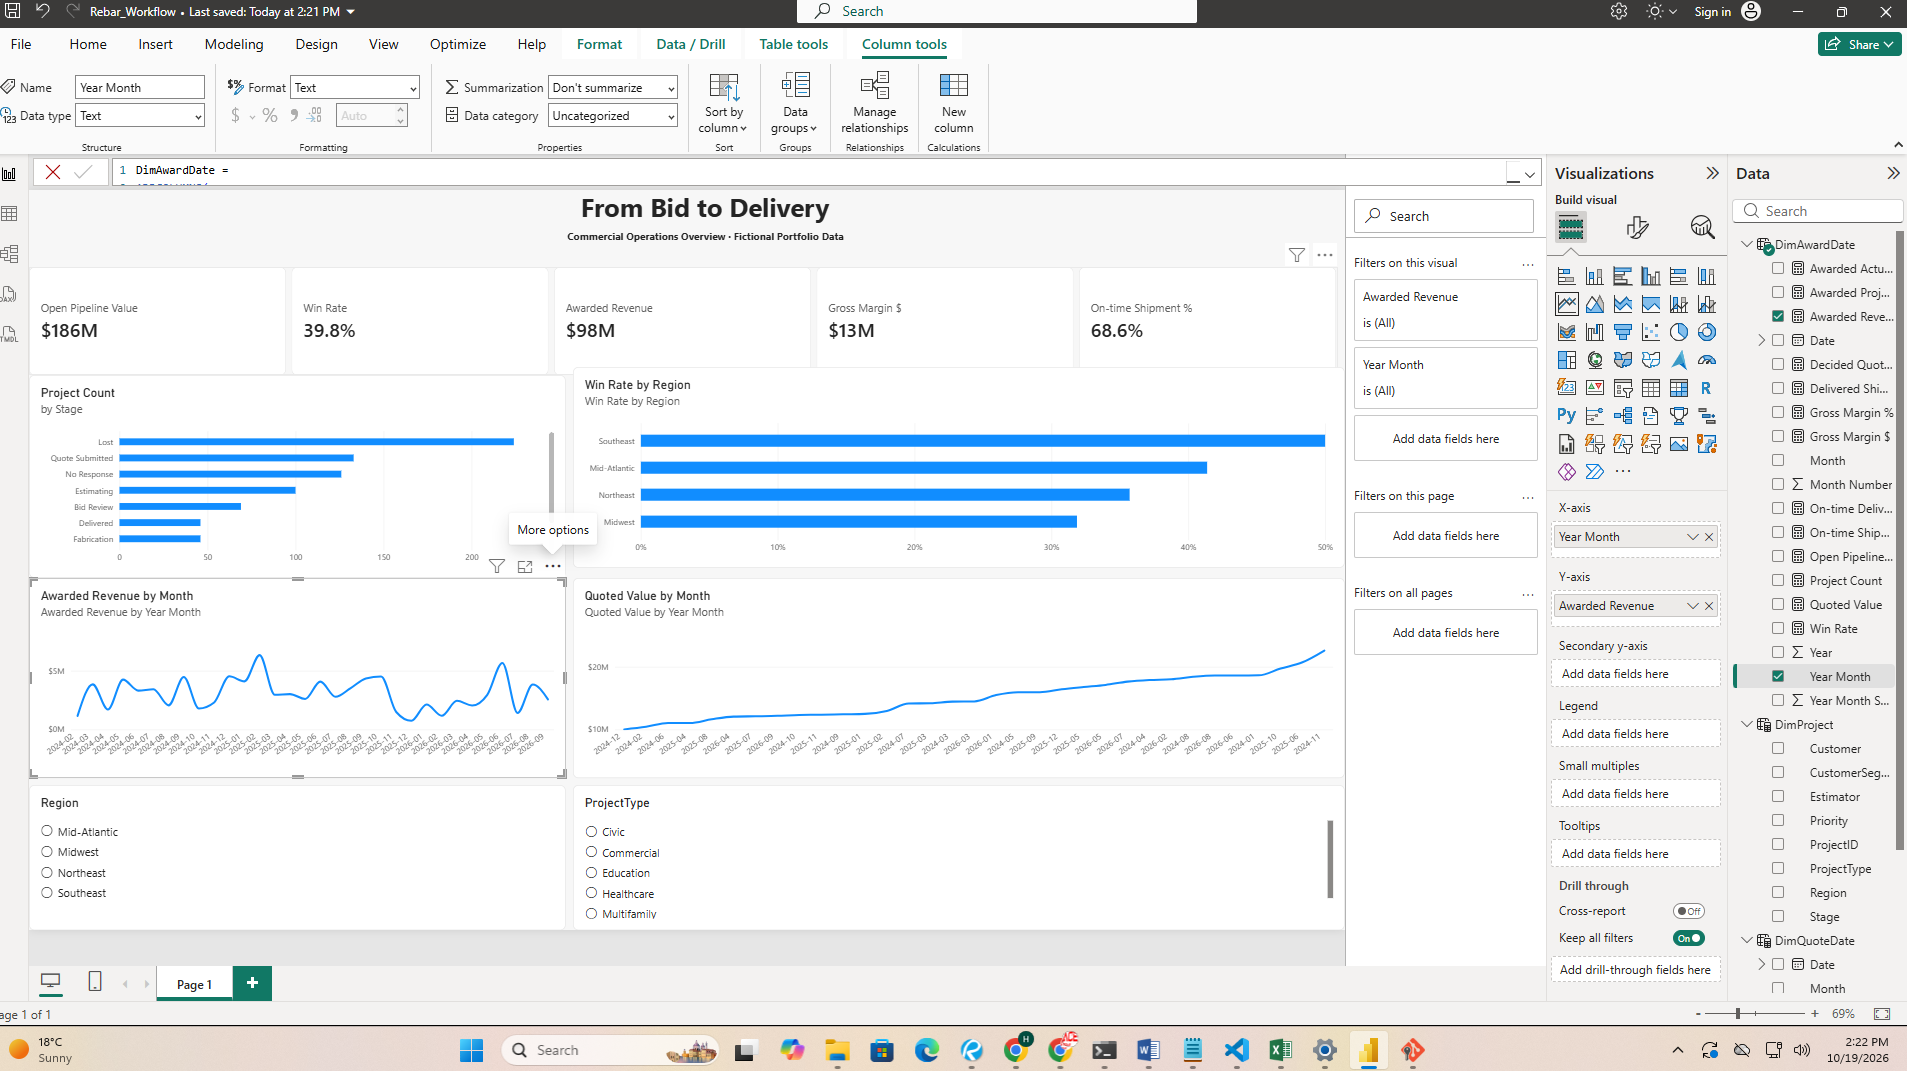

Layout of this report page (visuals, bound fields, positions):
{"tool":"powerbi","page":{"name":"Page 1","canvas":[1920,1080],"ordinal":0},"visuals":[{"type":"cardVisual","fields":{"Data":["DimAwardDate.Open Pipeline Value","DimAwardDate.Win Rate","DimAwardDate.Awarded Revenue","DimAwardDate.Gross Margin $","DimAwardDate.On-time Shipment %"]},"box":[0,111.7,1910,158.3],"z":0},{"type":"clusteredBarChart","fields":{"Category":["DimProject.Stage"],"Y":["DimAwardDate.Project Count"]},"box":[0,269.9,783.5,296.2],"z":1000},{"type":"clusteredBarChart","title":"Win Rate  by Region","fields":{"Category":["DimProject.Region"],"Y":["DimAwardDate.Win Rate"]},"box":[793.7,258.2,1126.3,293.3],"z":2000},{"type":"lineChart","title":"Awarded Revenue by Month","fields":{"Category":["DimAwardDate.Year Month"],"Y":["DimAwardDate.Awarded Revenue"]},"box":[0,566.1,783,292],"z":3000},{"type":"lineChart","title":"Quoted Value by Month","fields":{"Category":["DimQuoteDate.Year Month"],"Y":["DimAwardDate.Quoted Value"]},"box":[793.7,566.1,1126,292],"z":4000},{"type":"listSlicer","fields":{"Values":["DimProject.Region"]},"box":[0,868,783,212],"z":5000},{"type":"listSlicer","fields":{"Values":["DimProject.ProjectType"]},"box":[794,868,1126,212],"z":6000},{"type":"textbox","box":[0,0,1920.6,57.2],"z":7000},{"type":"textbox","box":[54.5,57.2,1866.1,43.9],"z":8000}]}

Visuals, with their boxes on the page's 1920x1080 design canvas (x1, y1, x2, y2). These are canvas units, not pixel positions in the 1907x1071 screenshot, which may show the page scaled, cropped or inside an application window:
cardVisual - DimAwardDate.Open Pipeline Value x DimAwardDate.Win Rate: <region>0, 112, 1910, 270</region>
clusteredBarChart - DimProject.Stage x DimAwardDate.Project Count: <region>0, 270, 784, 566</region>
"Win Rate  by Region" clusteredBarChart: <region>794, 258, 1920, 552</region>
"Awarded Revenue by Month" lineChart: <region>0, 566, 783, 858</region>
"Quoted Value by Month" lineChart: <region>794, 566, 1920, 858</region>
listSlicer - DimProject.Region: <region>0, 868, 783, 1080</region>
listSlicer - DimProject.ProjectType: <region>794, 868, 1920, 1080</region>
textbox: <region>0, 0, 1921, 57</region>
textbox: <region>54, 57, 1921, 101</region>
